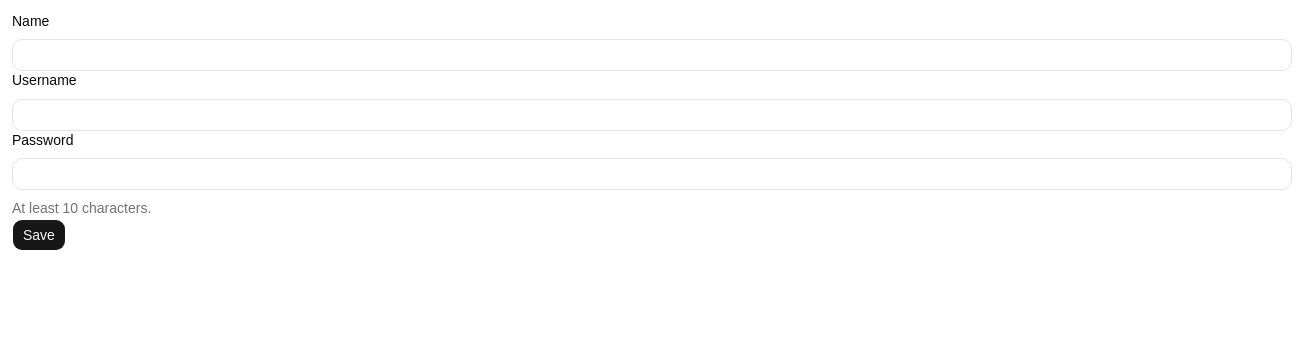
Scenario: form pattern › shows Zod validation messages next to the fields and marks them invalid
Step 1. Type "bad name!" into the field labelled "Username" → [652, 114], box [12,98,1292,130]
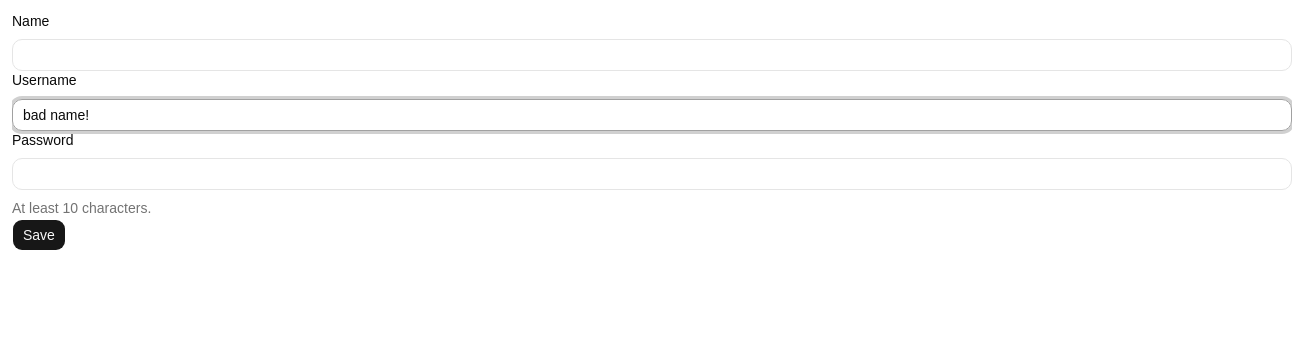
Step 2. Type "short" into the password field labelled "Password" → [652, 174], box [12,158,1292,190]
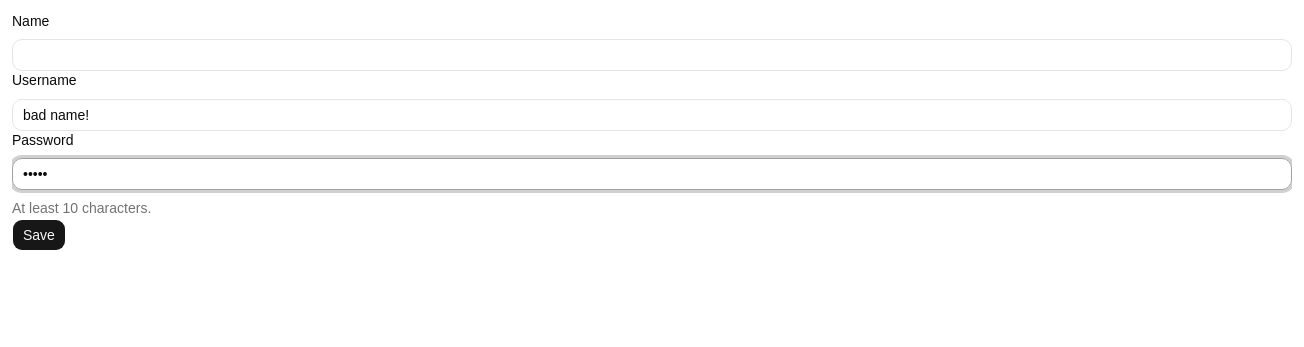
Step 3. Click the button "Save" → [39, 235], box [12,219,66,251]
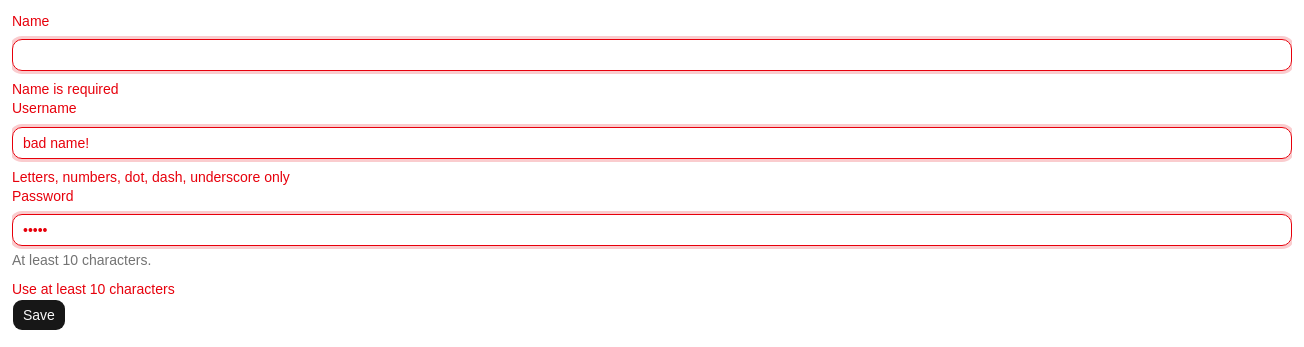
Check: the text "Name is required" is shown, box [12,81,119,97]
Check: the text "Letters, numbers, dot, dash, underscore only" is shown, box [12,168,290,184]
Check: the text "Use at least 10 characters" is shown, box [12,281,175,297]
